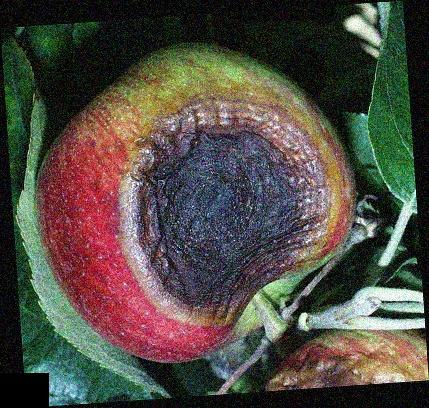rotten apple: (36, 43, 356, 360), (259, 329, 427, 386)
